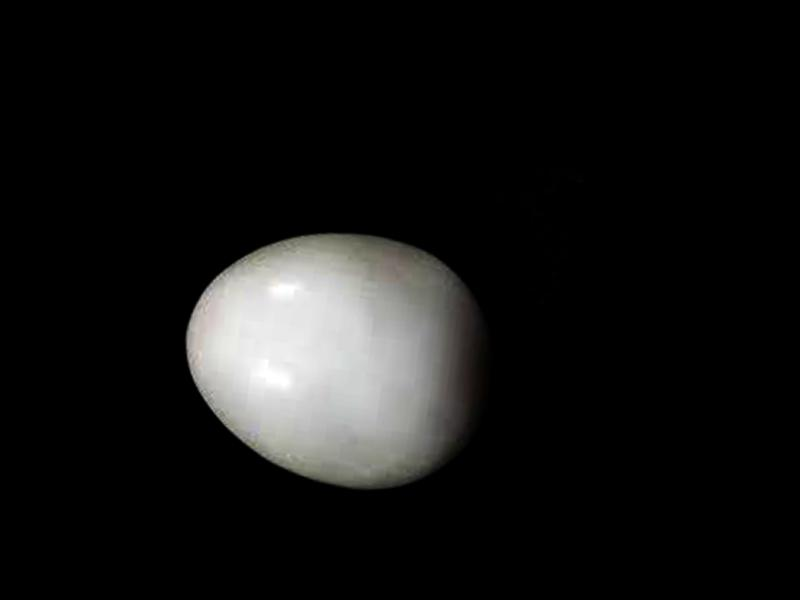Eggs: (171, 215, 511, 501)
